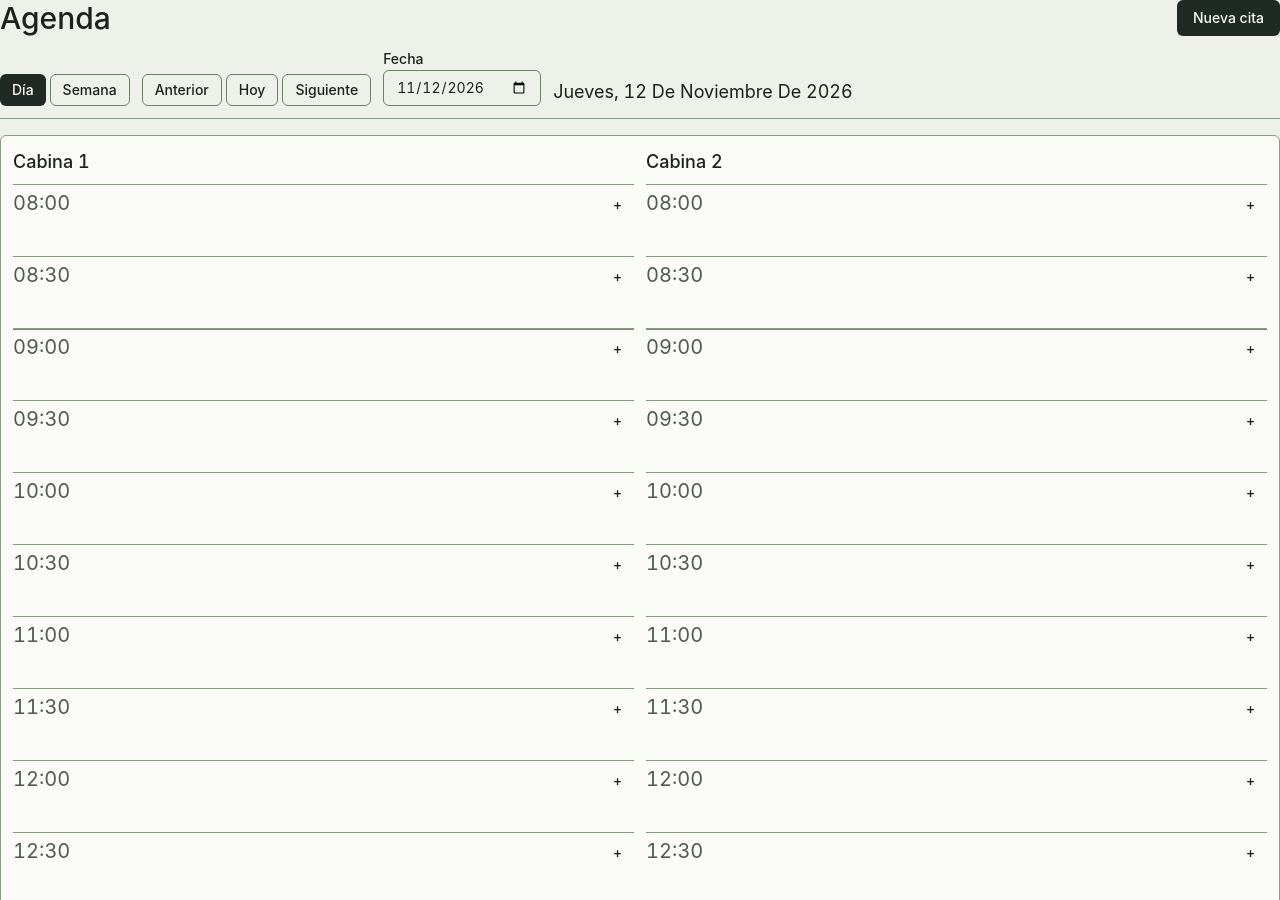
Test case: AppointmentsPage › crea una cita desde un hueco vacío y la muestra en la grilla
Click the button "Siguiente" at [327, 90], box [282,74,371,106]
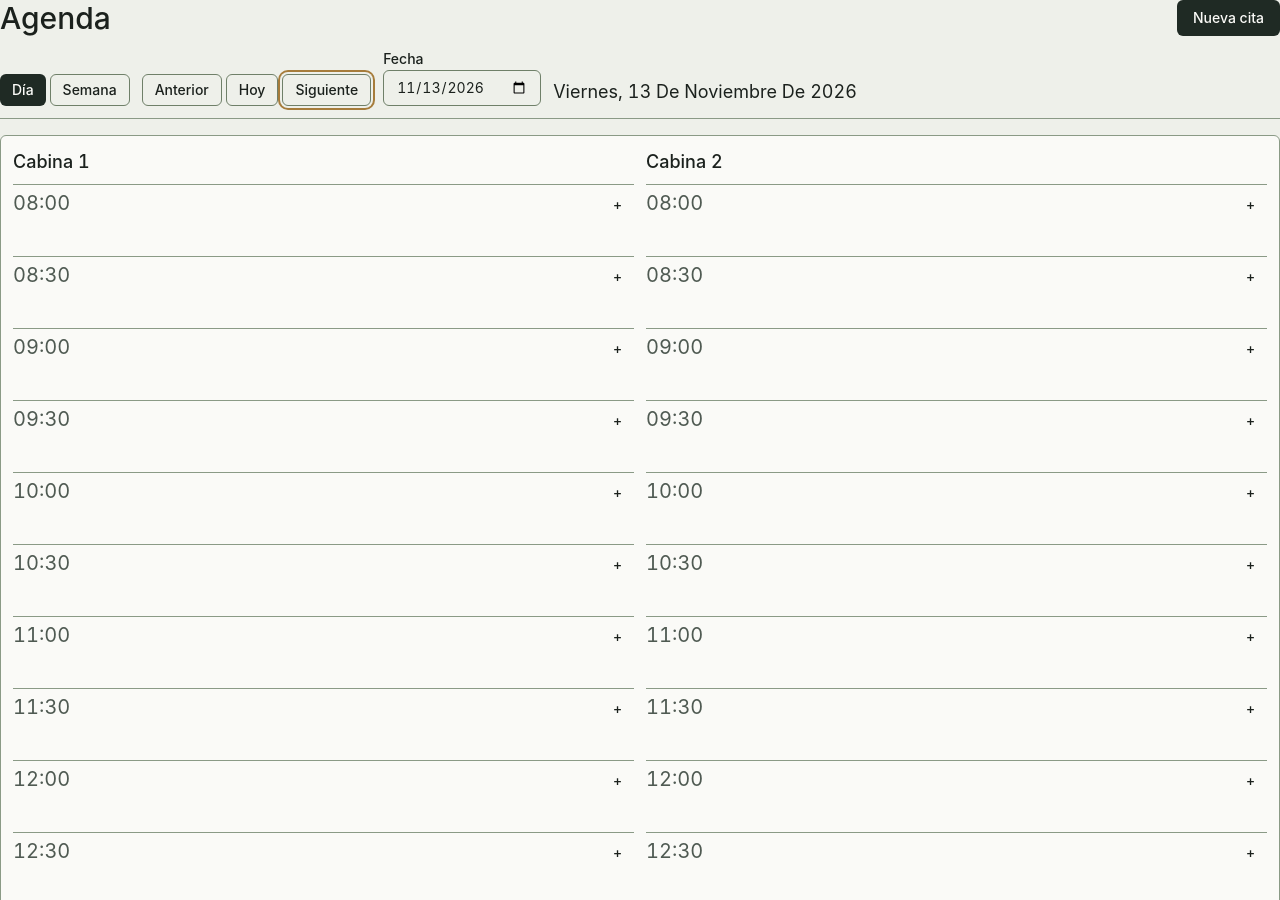
Click the button named "Crear cita en Cabina 2 a las 10:30" at [1250, 565], box [1234,549,1267,581]
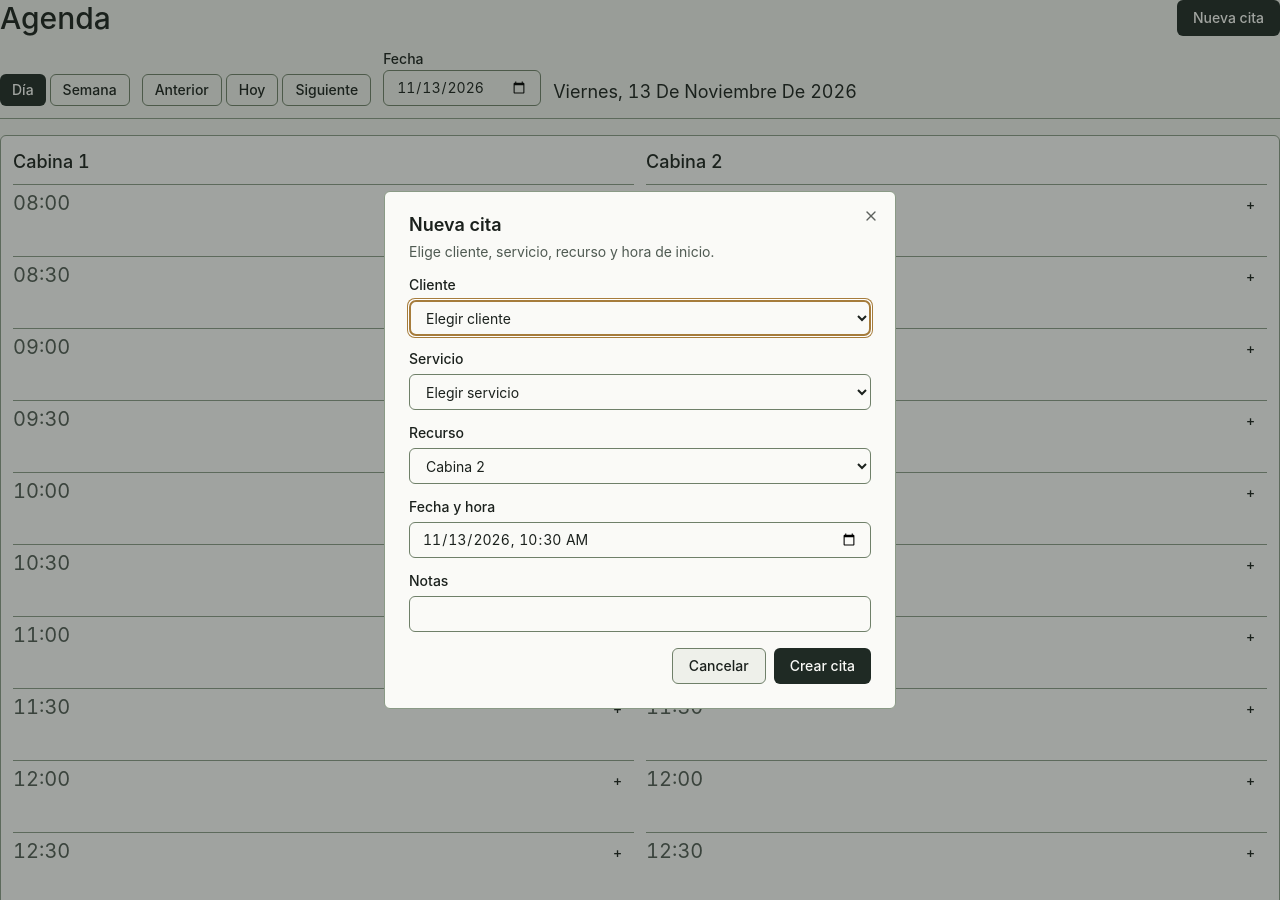
Result: the field labelled "Fecha y hora" holds "2026-11-13T10:30" at [409,522,871,558]
Result: the dropdown labelled "Recurso" shows "Cabina 2" at [409,448,871,484]
Select "María González" in the dropdown labelled "Cliente" at [640, 318], box [409,300,871,336]
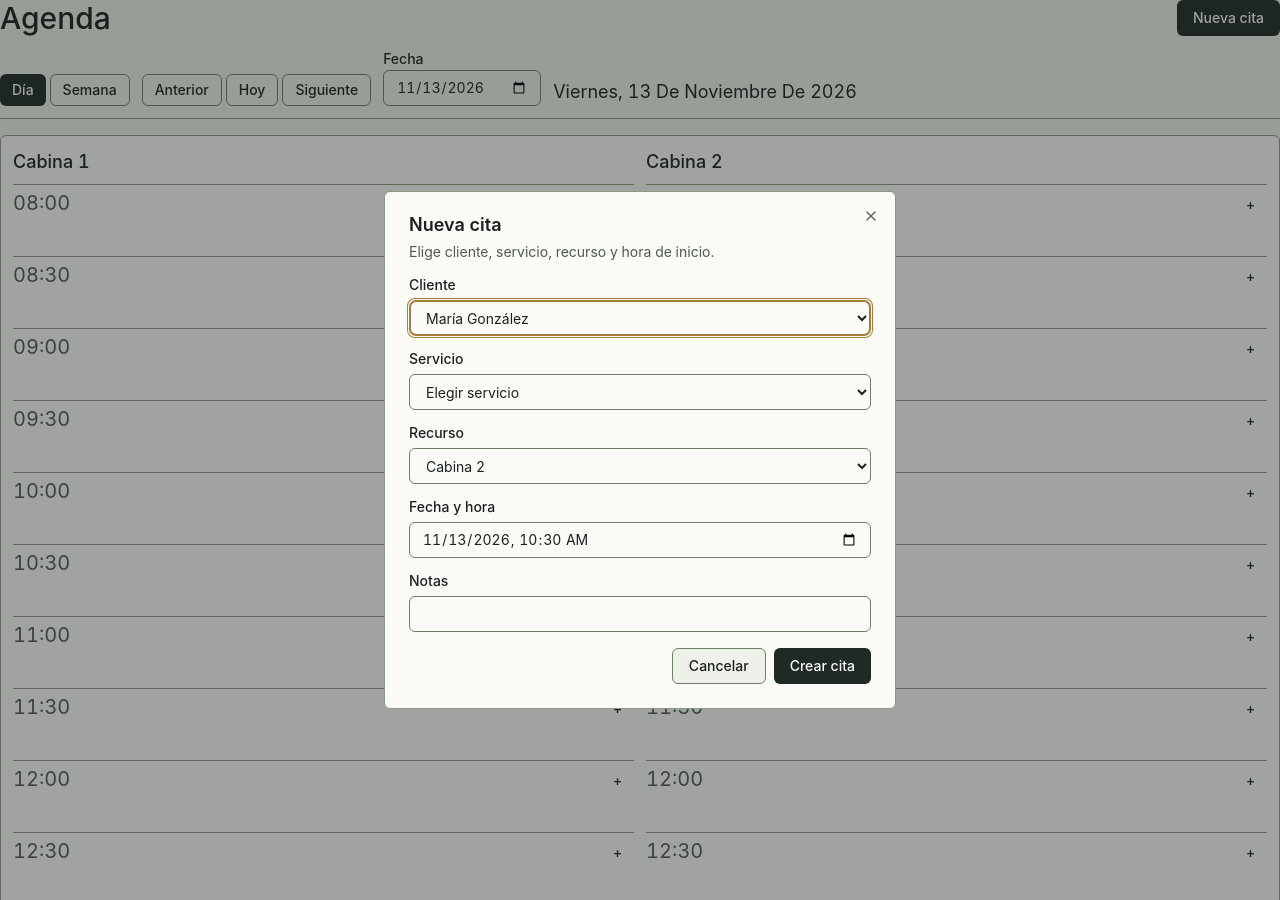
Select "Limpieza facial (ejemplo)" in the dropdown labelled "Servicio" at [640, 392], box [409,374,871,410]
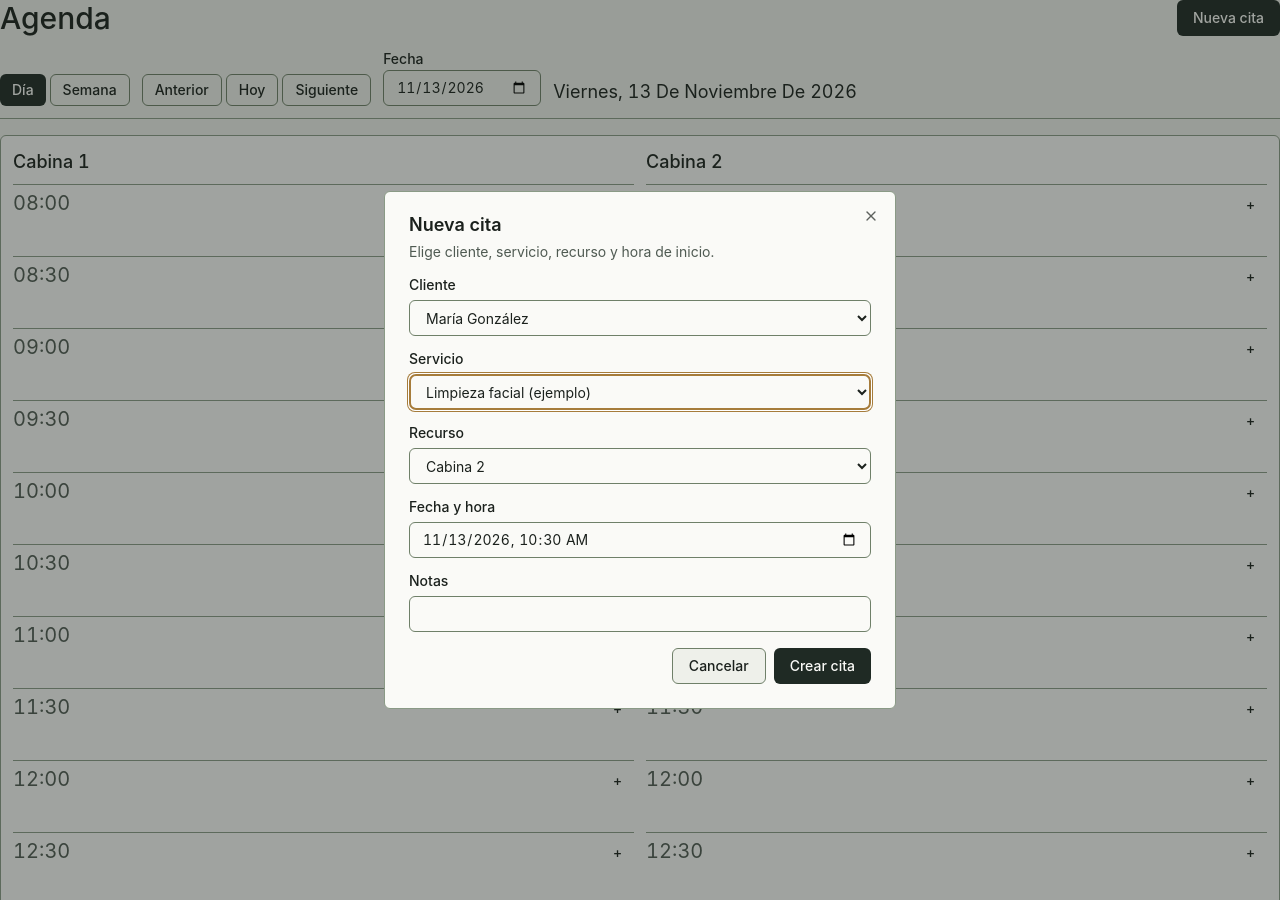
Click the button "Crear cita" at [822, 666], box [774,648,871,684]
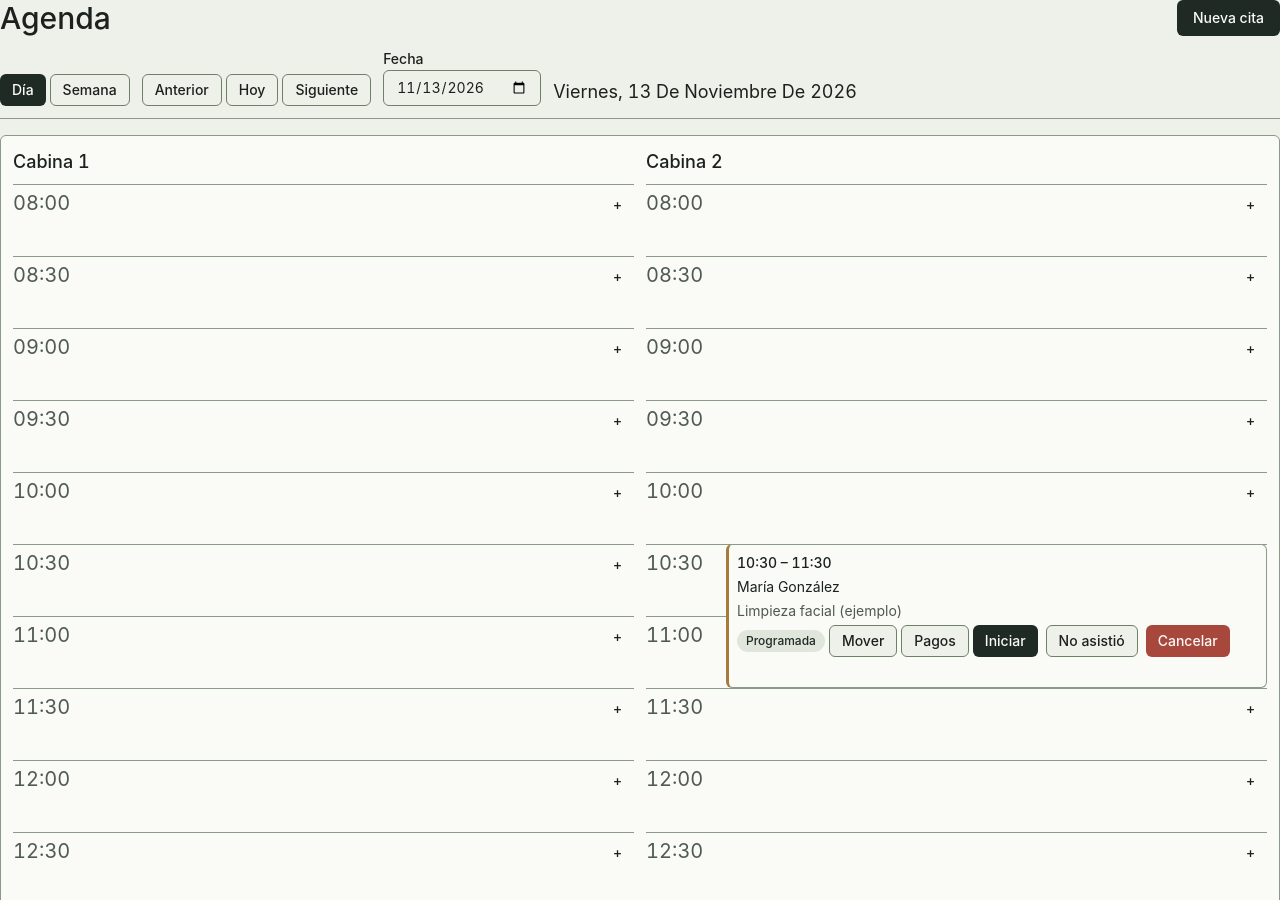
Result: the element named "Cita de María González a las 10:30" is shown at [726,544,1267,688]
Result: the dialog is gone
